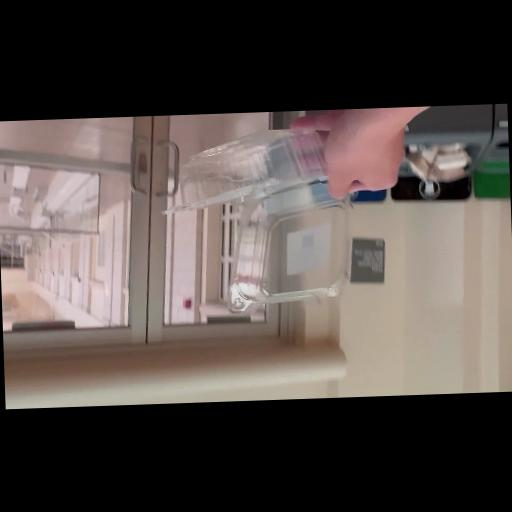small_plastic_container: (158, 124, 365, 316)
